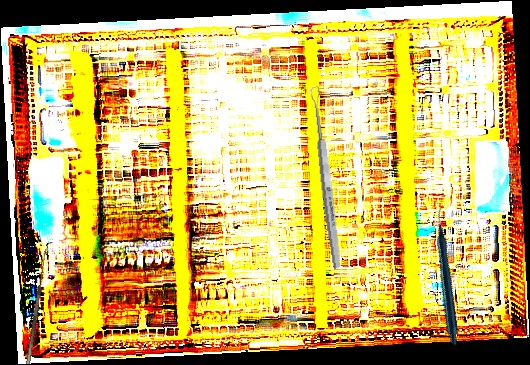Handpiece: (383, 204, 515, 347)
Hook Surgical: (20, 249, 48, 365)
Surgical Spoon: (308, 85, 344, 270)
